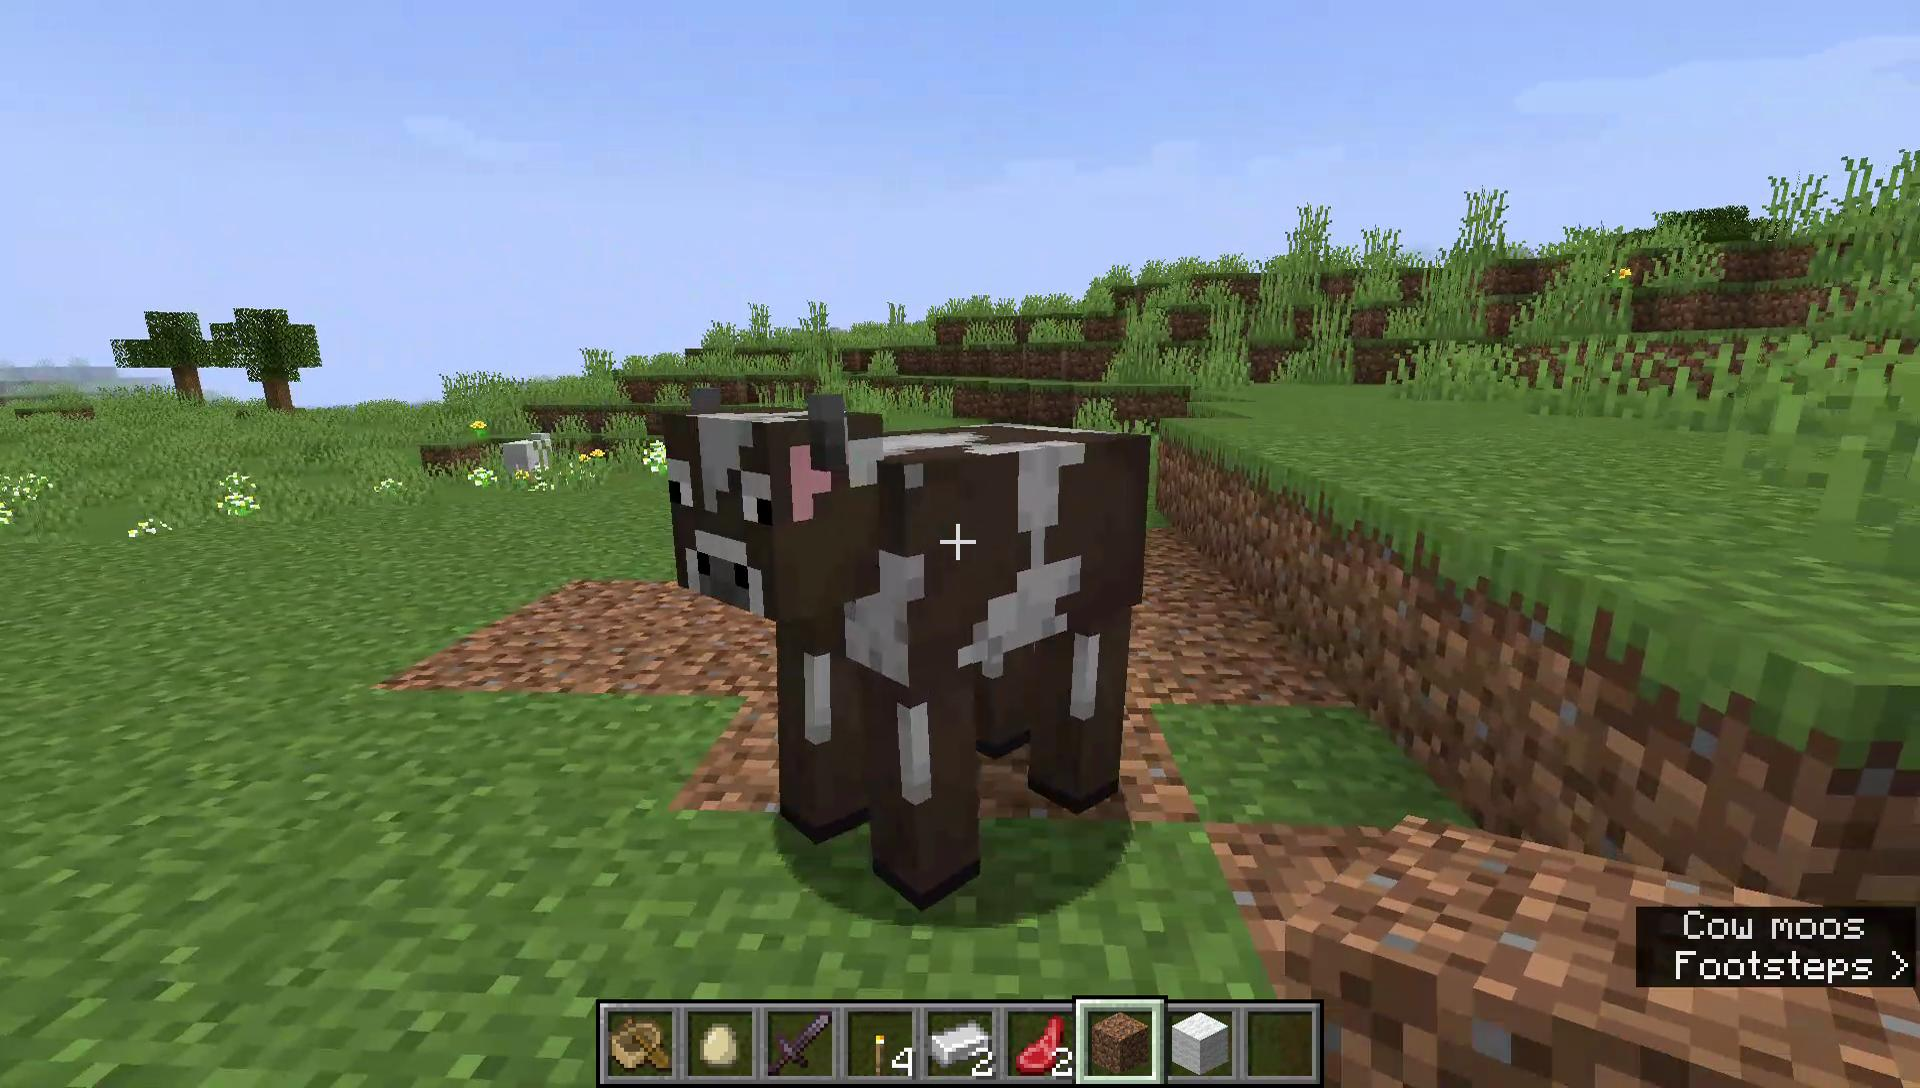cow: (651, 371, 1159, 921)
